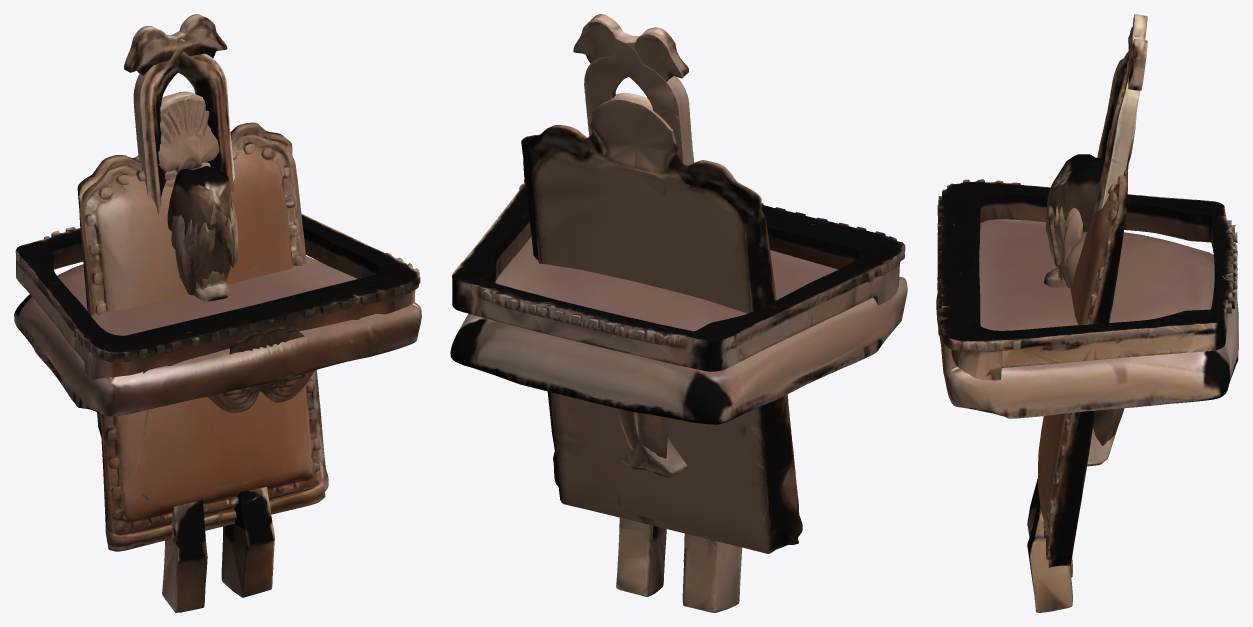
The picture shows the model from 3 angles, left to right: view 1: azimuth 30°, elevation 25°; view 2: azimuth 150°, elevation 25°; view 3: azimuth 270°, elevation 25°; orthographic projection. The views are drawn at different scales.
Visible parts, largest first — view 1: root.0, root.2, root.1, root.4, root.3, root.5, root.6; view 2: root.0, root.1, root.2, root.3, root.4, root.6, root.5; view 3: root.1, root.2, root.0, root.4, root.5, root.6, root.3.
Boxes of the visible parts, <box> form: root.0: <box>77,91,328,551</box>; root.2: <box>15,213,420,413</box>; root.1: <box>14,256,421,416</box>; root.4: <box>124,26,274,597</box>; root.3: <box>133,14,227,612</box>; root.5: <box>167,169,238,279</box>; root.6: <box>171,166,232,295</box>; root.0: <box>521,92,802,553</box>; root.1: <box>450,236,907,424</box>; root.2: <box>452,178,905,371</box>; root.3: <box>573,14,741,612</box>; root.4: <box>584,27,688,596</box>; root.6: <box>616,408,687,477</box>; root.5: <box>622,413,668,470</box>; root.1: <box>936,219,1238,418</box>; root.2: <box>937,179,1237,380</box>; root.0: <box>1038,110,1136,567</box>; root.4: <box>1027,14,1147,612</box>; root.5: <box>1046,154,1117,466</box>; root.6: <box>1047,165,1124,445</box>; root.3: <box>1027,39,1147,577</box>.
Bounding box in the file's own units: 15743 × 25444 × 12381.
1 material, 1 textured.
